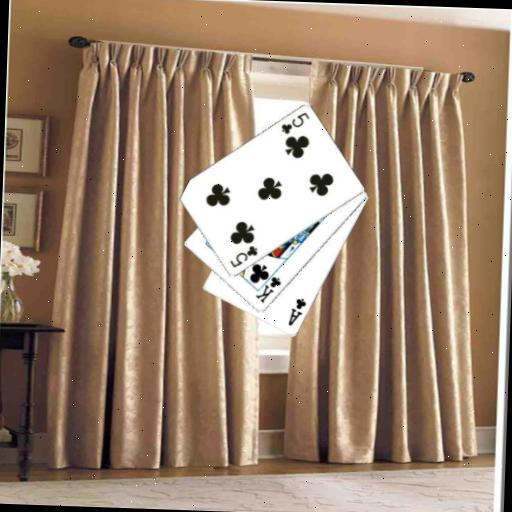5C: (226, 242, 259, 270), (277, 108, 310, 136)
AC: (284, 295, 307, 328)
KC: (252, 267, 283, 305)
